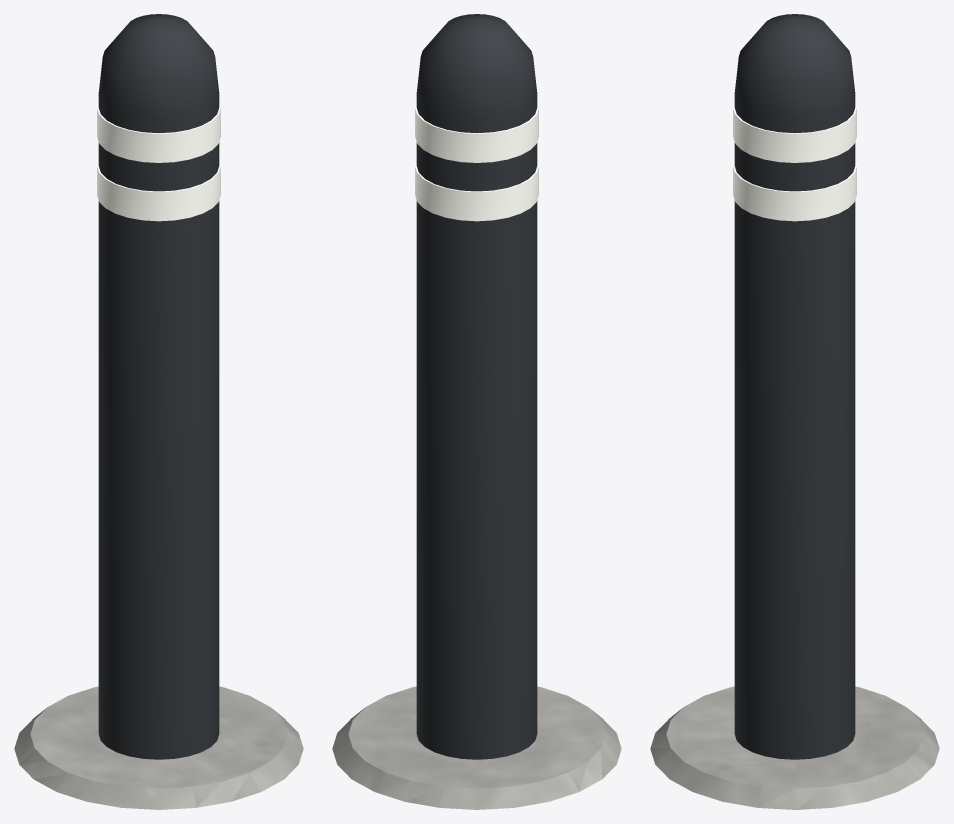
File: street-bollard.glb
The picture shows the model from 3 angles, left to right: view 1: azimuth 30°, elevation 25°; view 2: azimuth 150°, elevation 25°; view 3: azimuth 270°, elevation 25°; orthographic projection.
Parts seen in each view (by area): view 1: Street_Bollard; view 2: Street_Bollard; view 3: Street_Bollard.
Boxes of the visible parts, x1=… form: Street_Bollard: x1=14, y1=14, x2=303, y2=809; Street_Bollard: x1=332, y1=14, x2=621, y2=809; Street_Bollard: x1=650, y1=14, x2=939, y2=809.
Size of the model in its own units: 0.36 by 1 by 0.36.
3 materials, 1 textured.
